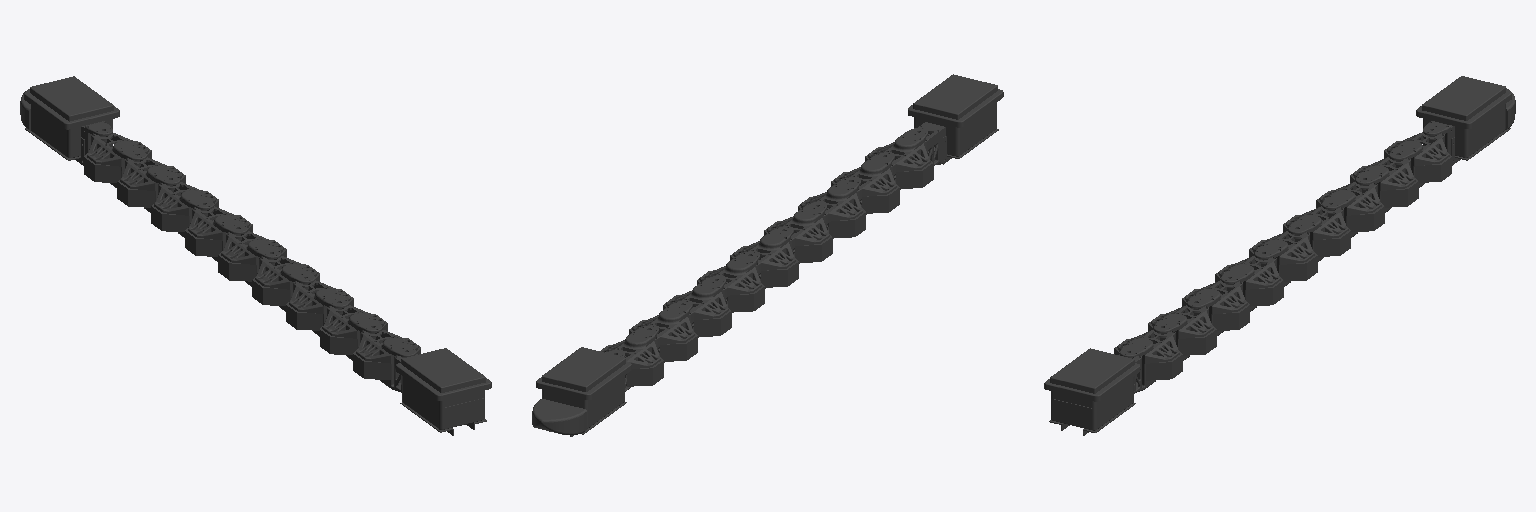
URDF robot description (snake_robot_cit_notail):
<?xml version="1.0" ?>
<!-- =================================================================================== -->
<!-- |    This document was autogenerated by xacro from ./snake_robot_cit_notail_description/urdf/snake_robot_cit_notail.xacro | -->
<!-- |    EDITING THIS FILE BY HAND IS NOT RECOMMENDED                                 | -->
<!-- =================================================================================== -->
<robot name="snake_robot_cit_notail">
  <material name="silver_default">
    <color rgba="0.700 0.700 0.700 1.000"/>
  </material>
  <material name="default">
    <color rgba="0.3137254901960784 0.3137254901960784 0.3137254901960784 1.0"/>
  </material>
  <transmission name="revjoint1_tran">
    <type>transmission_interface/SimpleTransmission</type>
    <joint name="revjoint1">
      <hardwareInterface>hardware_interface/EffortJointInterface</hardwareInterface>
    </joint>
    <actuator name="revjoint1_actr">
      <hardwareInterface>hardware_interface/EffortJointInterface</hardwareInterface>
      <mechanicalReduction>1</mechanicalReduction>
    </actuator>
  </transmission>
  <transmission name="revjoint2_tran">
    <type>transmission_interface/SimpleTransmission</type>
    <joint name="revjoint2">
      <hardwareInterface>hardware_interface/EffortJointInterface</hardwareInterface>
    </joint>
    <actuator name="revjoint2_actr">
      <hardwareInterface>hardware_interface/EffortJointInterface</hardwareInterface>
      <mechanicalReduction>1</mechanicalReduction>
    </actuator>
  </transmission>
  <transmission name="revjoint3_tran">
    <type>transmission_interface/SimpleTransmission</type>
    <joint name="revjoint3">
      <hardwareInterface>hardware_interface/EffortJointInterface</hardwareInterface>
    </joint>
    <actuator name="revjoint3_actr">
      <hardwareInterface>hardware_interface/EffortJointInterface</hardwareInterface>
      <mechanicalReduction>1</mechanicalReduction>
    </actuator>
  </transmission>
  <transmission name="revjoint4_tran">
    <type>transmission_interface/SimpleTransmission</type>
    <joint name="revjoint4">
      <hardwareInterface>hardware_interface/EffortJointInterface</hardwareInterface>
    </joint>
    <actuator name="revjoint4_actr">
      <hardwareInterface>hardware_interface/EffortJointInterface</hardwareInterface>
      <mechanicalReduction>1</mechanicalReduction>
    </actuator>
  </transmission>
  <transmission name="revjoint5_tran">
    <type>transmission_interface/SimpleTransmission</type>
    <joint name="revjoint5">
      <hardwareInterface>hardware_interface/EffortJointInterface</hardwareInterface>
    </joint>
    <actuator name="revjoint5_actr">
      <hardwareInterface>hardware_interface/EffortJointInterface</hardwareInterface>
      <mechanicalReduction>1</mechanicalReduction>
    </actuator>
  </transmission>
  <transmission name="revjoint6_tran">
    <type>transmission_interface/SimpleTransmission</type>
    <joint name="revjoint6">
      <hardwareInterface>hardware_interface/EffortJointInterface</hardwareInterface>
    </joint>
    <actuator name="revjoint6_actr">
      <hardwareInterface>hardware_interface/EffortJointInterface</hardwareInterface>
      <mechanicalReduction>1</mechanicalReduction>
    </actuator>
  </transmission>
  <transmission name="revjoint7_tran">
    <type>transmission_interface/SimpleTransmission</type>
    <joint name="revjoint7">
      <hardwareInterface>hardware_interface/EffortJointInterface</hardwareInterface>
    </joint>
    <actuator name="revjoint7_actr">
      <hardwareInterface>hardware_interface/EffortJointInterface</hardwareInterface>
      <mechanicalReduction>1</mechanicalReduction>
    </actuator>
  </transmission>
  <transmission name="revjoint8_tran">
    <type>transmission_interface/SimpleTransmission</type>
    <joint name="revjoint8">
      <hardwareInterface>hardware_interface/EffortJointInterface</hardwareInterface>
    </joint>
    <actuator name="revjoint8_actr">
      <hardwareInterface>hardware_interface/EffortJointInterface</hardwareInterface>
      <mechanicalReduction>1</mechanicalReduction>
    </actuator>
  </transmission>
  <transmission name="revjoint9_tran">
    <type>transmission_interface/SimpleTransmission</type>
    <joint name="revjoint9">
      <hardwareInterface>hardware_interface/EffortJointInterface</hardwareInterface>
    </joint>
    <actuator name="revjoint9_actr">
      <hardwareInterface>hardware_interface/EffortJointInterface</hardwareInterface>
      <mechanicalReduction>1</mechanicalReduction>
    </actuator>
  </transmission>
  <transmission name="revjoint10_tran">
    <type>transmission_interface/SimpleTransmission</type>
    <joint name="revjoint10">
      <hardwareInterface>hardware_interface/EffortJointInterface</hardwareInterface>
    </joint>
    <actuator name="revjoint10_actr">
      <hardwareInterface>hardware_interface/EffortJointInterface</hardwareInterface>
      <mechanicalReduction>1</mechanicalReduction>
    </actuator>
  </transmission>
  <link name="base_link">
    <inertial>
      <origin rpy="0 0 0" xyz="0.49333731311283335 1.158454640943659 0.019785748921786316"/>
      <mass value="2.4672394368378052"/>
      <inertia ixx="0.013192" ixy="7e-06" ixz="-0.0" iyy="0.00469" iyz="0.000587" izz="0.013535"/>
    </inertial>
    <visual>
      <origin rpy="0 0 0" xyz="0 0 0"/>
      <geometry>
        <mesh filename="package://snake_robot_cit_notail_description/meshes/base_link.stl" scale="0.001 0.001 0.001"/>
      </geometry>
      <material name="default"/>
    </visual>
    <collision>
      <origin rpy="0 0 0" xyz="0 0 0"/>
      <geometry>
        <mesh filename="package://snake_robot_cit_notail_description/meshes/base_link.stl" scale="0.001 0.001 0.001"/>
      </geometry>
    </collision>
  </link>
  <link name="onemodule1_1">
    <inertial>
      <origin rpy="0 0 0" xyz="-6.43198592636951e-06 -0.06684395997270809 0.045082314708387916"/>
      <mass value="0.718982525570161"/>
      <inertia ixx="0.001158" ixy="3e-06" ixz="0.0" iyy="0.001136" iyz="2.8e-05" izz="0.001592"/>
    </inertial>
    <visual>
      <origin rpy="0 0 0" xyz="-0.493459 -1.011872 0.043511"/>
      <geometry>
        <mesh filename="package://snake_robot_cit_notail_description/meshes/onemodule1_1.stl" scale="0.001 0.001 0.001"/>
      </geometry>
      <material name="default"/>
    </visual>
    <collision>
      <origin rpy="0 0 0" xyz="-0.493459 -1.011872 0.043511"/>
      <geometry>
        <mesh filename="package://snake_robot_cit_notail_description/meshes/onemodule1_1.stl" scale="0.001 0.001 0.001"/>
      </geometry>
    </collision>
  </link>
  <link name="onemodule2_1">
    <inertial>
      <origin rpy="0 0 0" xyz="-6.4703775745633685e-06 -0.06684388681472053 0.04508231470838813"/>
      <mass value="0.718982525570161"/>
      <inertia ixx="0.001158" ixy="3e-06" ixz="0.0" iyy="0.001136" iyz="2.8e-05" izz="0.001592"/>
    </inertial>
    <visual>
      <origin rpy="0 0 0" xyz="-0.493578 -0.869872 0.043511"/>
      <geometry>
        <mesh filename="package://snake_robot_cit_notail_description/meshes/onemodule2_1.stl" scale="0.001 0.001 0.001"/>
      </geometry>
      <material name="default"/>
    </visual>
    <collision>
      <origin rpy="0 0 0" xyz="-0.493578 -0.869872 0.043511"/>
      <geometry>
        <mesh filename="package://snake_robot_cit_notail_description/meshes/onemodule2_1.stl" scale="0.001 0.001 0.001"/>
      </geometry>
    </collision>
  </link>
  <link name="onemodule3_1">
    <inertial>
      <origin rpy="0 0 0" xyz="-6.5087692222576266e-06 -0.06684381365673298 0.045082314708388346"/>
      <mass value="0.718982525570161"/>
      <inertia ixx="0.001158" ixy="3e-06" ixz="0.0" iyy="0.001136" iyz="2.8e-05" izz="0.001592"/>
    </inertial>
    <visual>
      <origin rpy="0 0 0" xyz="-0.493697 -0.727872 0.043511"/>
      <geometry>
        <mesh filename="package://snake_robot_cit_notail_description/meshes/onemodule3_1.stl" scale="0.001 0.001 0.001"/>
      </geometry>
      <material name="default"/>
    </visual>
    <collision>
      <origin rpy="0 0 0" xyz="-0.493697 -0.727872 0.043511"/>
      <geometry>
        <mesh filename="package://snake_robot_cit_notail_description/meshes/onemodule3_1.stl" scale="0.001 0.001 0.001"/>
      </geometry>
    </collision>
  </link>
  <link name="onemodule4_1">
    <inertial>
      <origin rpy="0 0 0" xyz="-6.54716087067353e-06 -0.06684374049874575 0.04508231470838863"/>
      <mass value="0.718982525570161"/>
      <inertia ixx="0.001158" ixy="3e-06" ixz="0.0" iyy="0.001136" iyz="2.8e-05" izz="0.001592"/>
    </inertial>
    <visual>
      <origin rpy="0 0 0" xyz="-0.493816 -0.585872 0.043511"/>
      <geometry>
        <mesh filename="package://snake_robot_cit_notail_description/meshes/onemodule4_1.stl" scale="0.001 0.001 0.001"/>
      </geometry>
      <material name="default"/>
    </visual>
    <collision>
      <origin rpy="0 0 0" xyz="-0.493816 -0.585872 0.043511"/>
      <geometry>
        <mesh filename="package://snake_robot_cit_notail_description/meshes/onemodule4_1.stl" scale="0.001 0.001 0.001"/>
      </geometry>
    </collision>
  </link>
  <link name="onemodule5_1">
    <inertial>
      <origin rpy="0 0 0" xyz="-6.585552518811877e-06 -0.0668436673407582 0.045082314708388915"/>
      <mass value="0.718982525570161"/>
      <inertia ixx="0.001158" ixy="3e-06" ixz="0.0" iyy="0.001136" iyz="2.8e-05" izz="0.001592"/>
    </inertial>
    <visual>
      <origin rpy="0 0 0" xyz="-0.493935 -0.443872 0.043511"/>
      <geometry>
        <mesh filename="package://snake_robot_cit_notail_description/meshes/onemodule5_1.stl" scale="0.001 0.001 0.001"/>
      </geometry>
      <material name="default"/>
    </visual>
    <collision>
      <origin rpy="0 0 0" xyz="-0.493935 -0.443872 0.043511"/>
      <geometry>
        <mesh filename="package://snake_robot_cit_notail_description/meshes/onemodule5_1.stl" scale="0.001 0.001 0.001"/>
      </geometry>
    </collision>
  </link>
  <link name="onemodule6_1">
    <inertial>
      <origin rpy="0 0 0" xyz="-6.62394416722778e-06 -0.06684359418277025 0.04508231470838916"/>
      <mass value="0.718982525570161"/>
      <inertia ixx="0.001158" ixy="3e-06" ixz="0.0" iyy="0.001136" iyz="2.8e-05" izz="0.001592"/>
    </inertial>
    <visual>
      <origin rpy="0 0 0" xyz="-0.494054 -0.301872 0.043511"/>
      <geometry>
        <mesh filename="package://snake_robot_cit_notail_description/meshes/onemodule6_1.stl" scale="0.001 0.001 0.001"/>
      </geometry>
      <material name="default"/>
    </visual>
    <collision>
      <origin rpy="0 0 0" xyz="-0.494054 -0.301872 0.043511"/>
      <geometry>
        <mesh filename="package://snake_robot_cit_notail_description/meshes/onemodule6_1.stl" scale="0.001 0.001 0.001"/>
      </geometry>
    </collision>
  </link>
  <link name="onemodule7_1">
    <inertial>
      <origin rpy="0 0 0" xyz="-6.662335815199594e-06 -0.06684352102478269 0.04508231470838948"/>
      <mass value="0.718982525570161"/>
      <inertia ixx="0.001158" ixy="3e-06" ixz="0.0" iyy="0.001136" iyz="2.8e-05" izz="0.001592"/>
    </inertial>
    <visual>
      <origin rpy="0 0 0" xyz="-0.494173 -0.159872 0.043511"/>
      <geometry>
        <mesh filename="package://snake_robot_cit_notail_description/meshes/onemodule7_1.stl" scale="0.001 0.001 0.001"/>
      </geometry>
      <material name="default"/>
    </visual>
    <collision>
      <origin rpy="0 0 0" xyz="-0.494173 -0.159872 0.043511"/>
      <geometry>
        <mesh filename="package://snake_robot_cit_notail_description/meshes/onemodule7_1.stl" scale="0.001 0.001 0.001"/>
      </geometry>
    </collision>
  </link>
  <link name="onemodule8_1">
    <inertial>
      <origin rpy="0 0 0" xyz="-6.7007274635044745e-06 -0.06684344786679515 0.04508231470838973"/>
      <mass value="0.718982525570161"/>
      <inertia ixx="0.001158" ixy="3e-06" ixz="0.0" iyy="0.001136" iyz="2.8e-05" izz="0.001592"/>
    </inertial>
    <visual>
      <origin rpy="0 0 0" xyz="-0.494292 -0.017872 0.043511"/>
      <geometry>
        <mesh filename="package://snake_robot_cit_notail_description/meshes/onemodule8_1.stl" scale="0.001 0.001 0.001"/>
      </geometry>
      <material name="default"/>
    </visual>
    <collision>
      <origin rpy="0 0 0" xyz="-0.494292 -0.017872 0.043511"/>
      <geometry>
        <mesh filename="package://snake_robot_cit_notail_description/meshes/onemodule8_1.stl" scale="0.001 0.001 0.001"/>
      </geometry>
    </collision>
  </link>
  <link name="onemodule9_1">
    <inertial>
      <origin rpy="0 0 0" xyz="-6.739119111642822e-06 -0.06684337470880765 0.04508231470839009"/>
      <mass value="0.718982525570161"/>
      <inertia ixx="0.001158" ixy="3e-06" ixz="0.0" iyy="0.001136" iyz="2.8e-05" izz="0.001592"/>
    </inertial>
    <visual>
      <origin rpy="0 0 0" xyz="-0.494411 0.124128 0.043511"/>
      <geometry>
        <mesh filename="package://snake_robot_cit_notail_description/meshes/onemodule9_1.stl" scale="0.001 0.001 0.001"/>
      </geometry>
      <material name="default"/>
    </visual>
    <collision>
      <origin rpy="0 0 0" xyz="-0.494411 0.124128 0.043511"/>
      <geometry>
        <mesh filename="package://snake_robot_cit_notail_description/meshes/onemodule9_1.stl" scale="0.001 0.001 0.001"/>
      </geometry>
    </collision>
  </link>
  <link name="tailmodule_1">
    <inertial>
      <origin rpy="0 0 0" xyz="0.0001008152061091061 -0.14695916284206512 0.06616432258412662"/>
      <mass value="2.1365597828004343"/>
      <inertia ixx="0.008936" ixy="1.1e-05" ixz="-1e-06" iyy="0.004178" iyz="0.000456" izz="0.009213"/>
    </inertial>
    <visual>
      <origin rpy="0 0 0" xyz="-0.49453 0.266128 0.043511"/>
      <geometry>
        <mesh filename="package://snake_robot_cit_notail_description/meshes/tailmodule_1.stl" scale="0.001 0.001 0.001"/>
      </geometry>
      <material name="default"/>
    </visual>
    <collision>
      <origin rpy="0 0 0" xyz="-0.49453 0.266128 0.043511"/>
      <geometry>
        <mesh filename="package://snake_robot_cit_notail_description/meshes/tailmodule_1.stl" scale="0.001 0.001 0.001"/>
      </geometry>
    </collision>
  </link>
  <joint name="revjoint1" type="revolute">
    <origin rpy="0 0 0" xyz="0.493459 1.011872 -0.043511"/>
    <parent link="base_link"/>
    <child link="onemodule1_1"/>
    <axis xyz="-0.0 0.0 1.0"/>
    <limit effort="100" lower="-1.047198" upper="1.047198" velocity="100"/>
  </joint>
  <joint name="revjoint2" type="revolute">
    <origin rpy="0 0 0" xyz="0.000119 -0.142 0.0"/>
    <parent link="onemodule1_1"/>
    <child link="onemodule2_1"/>
    <axis xyz="-0.0 0.0 1.0"/>
    <limit effort="100" lower="-1.047198" upper="1.047198" velocity="100"/>
  </joint>
  <joint name="revjoint3" type="revolute">
    <origin rpy="0 0 0" xyz="0.000119 -0.142 0.0"/>
    <parent link="onemodule2_1"/>
    <child link="onemodule3_1"/>
    <axis xyz="-0.0 0.0 1.0"/>
    <limit effort="100" lower="-1.047198" upper="1.047198" velocity="100"/>
  </joint>
  <joint name="revjoint4" type="revolute">
    <origin rpy="0 0 0" xyz="0.000119 -0.142 0.0"/>
    <parent link="onemodule3_1"/>
    <child link="onemodule4_1"/>
    <axis xyz="-0.0 0.0 1.0"/>
    <limit effort="100" lower="-1.047198" upper="1.047198" velocity="100"/>
  </joint>
  <joint name="revjoint5" type="revolute">
    <origin rpy="0 0 0" xyz="0.000119 -0.142 0.0"/>
    <parent link="onemodule4_1"/>
    <child link="onemodule5_1"/>
    <axis xyz="-0.0 0.0 1.0"/>
    <limit effort="100" lower="-1.047198" upper="1.047198" velocity="100"/>
  </joint>
  <joint name="revjoint6" type="revolute">
    <origin rpy="0 0 0" xyz="0.000119 -0.142 0.0"/>
    <parent link="onemodule5_1"/>
    <child link="onemodule6_1"/>
    <axis xyz="-0.0 0.0 1.0"/>
    <limit effort="100" lower="-1.047198" upper="1.047198" velocity="100"/>
  </joint>
  <joint name="revjoint7" type="revolute">
    <origin rpy="0 0 0" xyz="0.000119 -0.142 0.0"/>
    <parent link="onemodule6_1"/>
    <child link="onemodule7_1"/>
    <axis xyz="-0.0 0.0 1.0"/>
    <limit effort="100" lower="-1.047198" upper="1.047198" velocity="100"/>
  </joint>
  <joint name="revjoint8" type="revolute">
    <origin rpy="0 0 0" xyz="0.000119 -0.142 0.0"/>
    <parent link="onemodule7_1"/>
    <child link="onemodule8_1"/>
    <axis xyz="-0.0 0.0 1.0"/>
    <limit effort="100" lower="-1.047198" upper="1.047198" velocity="100"/>
  </joint>
  <joint name="revjoint9" type="revolute">
    <origin rpy="0 0 0" xyz="0.000119 -0.142 0.0"/>
    <parent link="onemodule8_1"/>
    <child link="onemodule9_1"/>
    <axis xyz="-0.0 0.0 1.0"/>
    <limit effort="100" lower="-1.047198" upper="1.047198" velocity="100"/>
  </joint>
  <joint name="revjoint10" type="revolute">
    <origin rpy="0 0 0" xyz="0.000119 -0.142 0.0"/>
    <parent link="onemodule9_1"/>
    <child link="tailmodule_1"/>
    <axis xyz="-0.0 0.0 1.0"/>
    <limit effort="100" lower="-1.047198" upper="1.047198" velocity="100"/>
  </joint>
</robot>

--- What the picture shows (computed from the rendered views, not written in the file) ---
3 views of the same robot in one strip: view 1: azimuth 30°, elevation 25°; view 2: azimuth 150°, elevation 25°; view 3: azimuth 330°, elevation 25° (orthographic).
Model snake_robot_cit_notail with 11 links and 10 joints (10 revolute), rooted at base_link, posed every joint at zero.
Links seen in each view (by area): view 1: tailmodule_1, base_link, onemodule9_1, onemodule6_1, onemodule1_1, onemodule7_1, onemodule3_1, onemodule4_1, onemodule5_1, onemodule2_1, onemodule8_1; view 2: base_link, tailmodule_1, onemodule9_1, onemodule2_1, onemodule6_1, onemodule5_1, onemodule3_1, onemodule8_1, onemodule4_1, onemodule7_1, onemodule1_1; view 3: tailmodule_1, base_link, onemodule9_1, onemodule3_1, onemodule6_1, onemodule8_1, onemodule5_1, onemodule2_1, onemodule4_1, onemodule7_1, onemodule1_1.
Boxes of the visible links, box(x1,y1,x2,y2) form: tailmodule_1: box(394, 348, 491, 435); base_link: box(20, 76, 119, 165); onemodule9_1: box(353, 330, 420, 391); onemodule6_1: box(252, 256, 319, 311); onemodule1_1: box(84, 133, 151, 187); onemodule7_1: box(286, 280, 353, 336); onemodule3_1: box(151, 182, 218, 237); onemodule4_1: box(185, 206, 252, 261); onemodule5_1: box(218, 231, 286, 286); onemodule2_1: box(117, 157, 185, 212); onemodule8_1: box(320, 305, 387, 360); base_link: box(532, 347, 631, 436); tailmodule_1: box(908, 74, 1003, 165); onemodule9_1: box(865, 128, 933, 189); onemodule2_1: box(629, 301, 697, 362); onemodule6_1: box(764, 202, 832, 263); onemodule5_1: box(730, 227, 798, 288); onemodule3_1: box(663, 276, 731, 337); onemodule8_1: box(831, 153, 899, 214); onemodule4_1: box(697, 251, 764, 312); onemodule7_1: box(798, 177, 865, 238); onemodule1_1: box(600, 325, 663, 391); tailmodule_1: box(1044, 348, 1141, 435); base_link: box(1416, 76, 1515, 165); onemodule9_1: box(1114, 330, 1182, 392); onemodule3_1: box(1316, 182, 1384, 237); onemodule6_1: box(1215, 256, 1283, 311); onemodule8_1: box(1148, 305, 1216, 360); onemodule5_1: box(1249, 231, 1317, 286); onemodule2_1: box(1350, 157, 1418, 212); onemodule4_1: box(1283, 206, 1350, 261); onemodule7_1: box(1182, 280, 1249, 335); onemodule1_1: box(1384, 132, 1451, 187).
Bounding box of the posed robot: 0.141 × 1.84 × 0.118 m (x, y, z).
Meshes: 11 distinct files referenced, 11 mesh visuals loaded (11 binary STL).